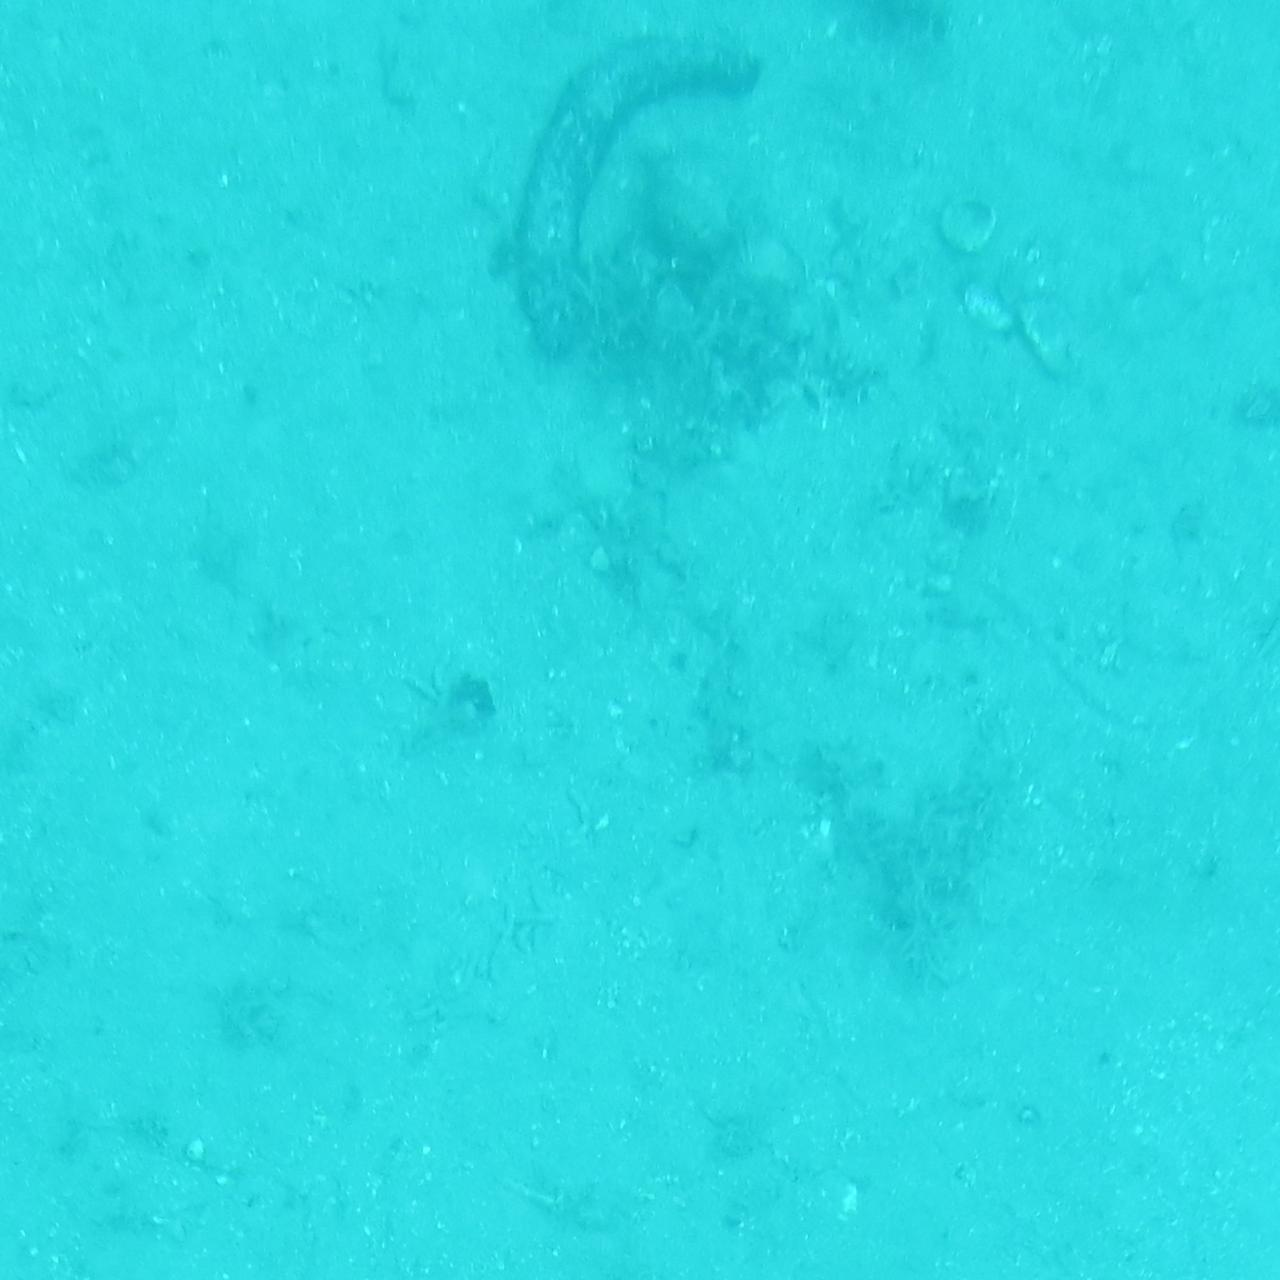Holothuria tubulosa: (506, 20, 774, 368)
